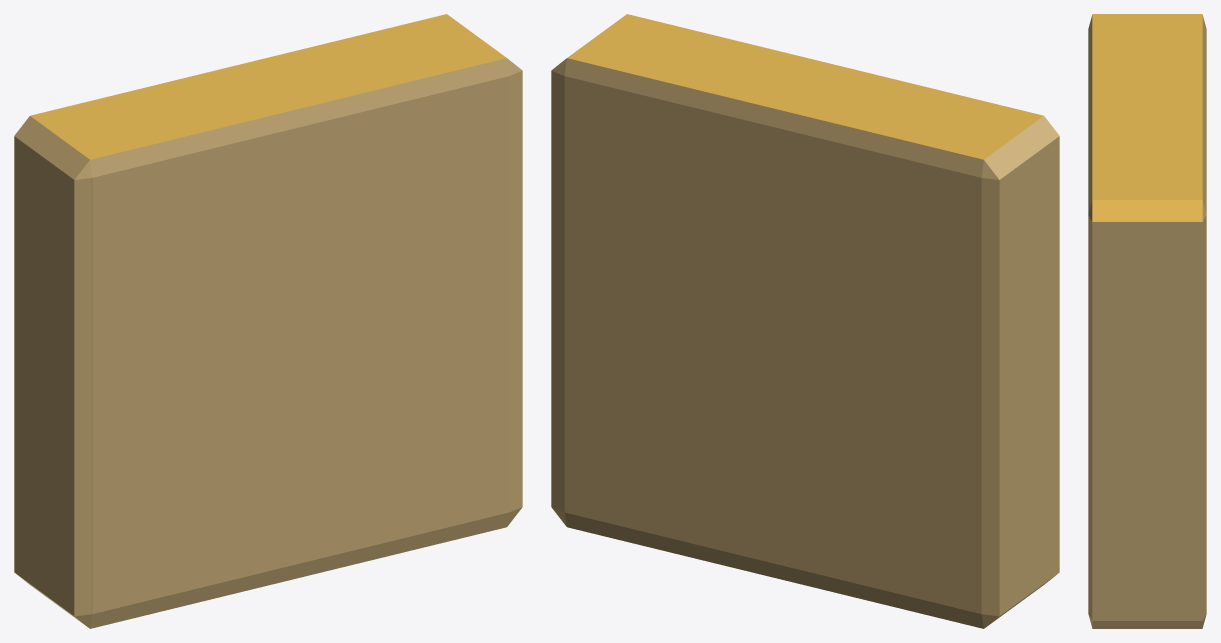
Rendered from wall6.fbx.
3 views of the same model, side by side, from view 1: azimuth 30°, elevation 25°; view 2: azimuth 150°, elevation 25°; view 3: azimuth 270°, elevation 25° (orthographic). The views are drawn at different scales.
Visible parts, largest first — view 1: Cube.515; view 2: Cube.515; view 3: Cube.515.
Part boxes in pixels (left/top/right/bottom): Cube.515: left=14, top=14, right=522, bottom=628; Cube.515: left=551, top=14, right=1059, bottom=628; Cube.515: left=1088, top=14, right=1206, bottom=628.
Bounding box in the file's own units: 50 × 200 × 200.
